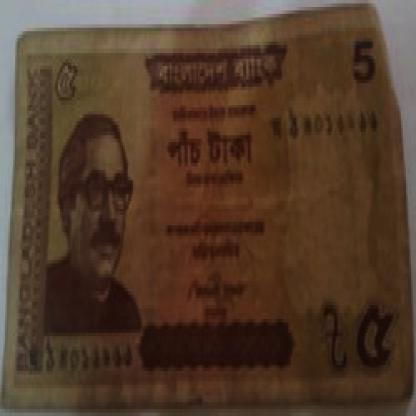Five Taka: (350, 291, 400, 392), (160, 128, 268, 174), (40, 45, 85, 114), (341, 28, 385, 94)
